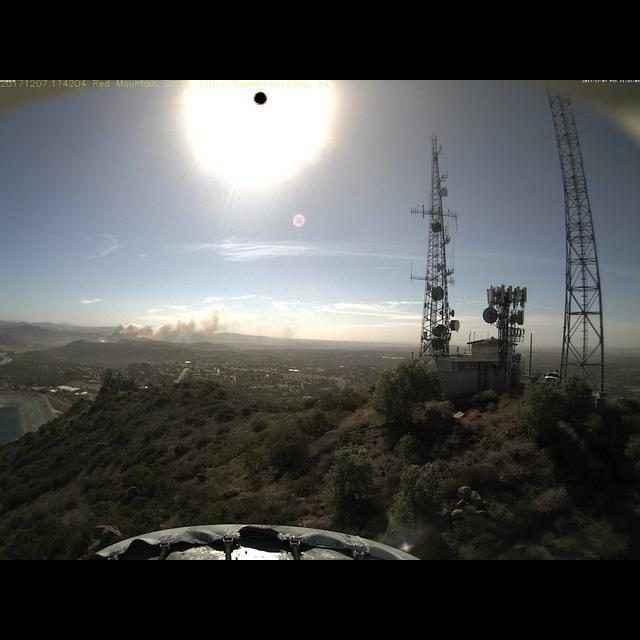Smoke: (96, 302, 238, 350)
